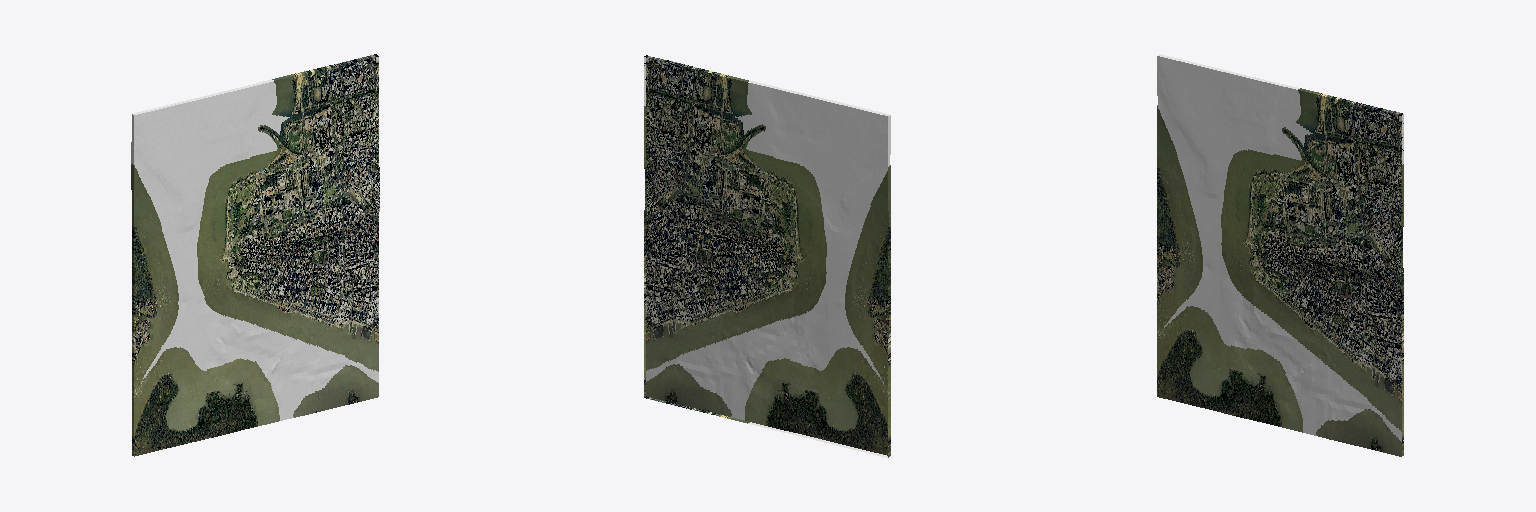
The picture shows the model from 3 angles: view 1: azimuth 30°, elevation 25°; view 2: azimuth 150°, elevation 25°; view 3: azimuth 330°, elevation 25°; orthographic projection.
Visible parts, largest first — view 1: terrenoB_L0_X0_Y0_subtile.osg_TerrainTile_MatrixTransform__Geome; view 2: terrenoB_L0_X0_Y0_subtile.osg_TerrainTile_MatrixTransform__Geome; view 3: terrenoB_L0_X0_Y0_subtile.osg_TerrainTile_MatrixTransform__Geome.
Part boxes in pixels (x1,y1,x2,y2): terrenoB_L0_X0_Y0_subtile.osg_TerrainTile_MatrixTransform__Geome: (131,54,379,456); terrenoB_L0_X0_Y0_subtile.osg_TerrainTile_MatrixTransform__Geome: (644,55,890,457); terrenoB_L0_X0_Y0_subtile.osg_TerrainTile_MatrixTransform__Geome: (1157,54,1403,456).
Bounding box in the file's own units: 2820 × 3760 × 89.64.
1 materials, 1 textured.